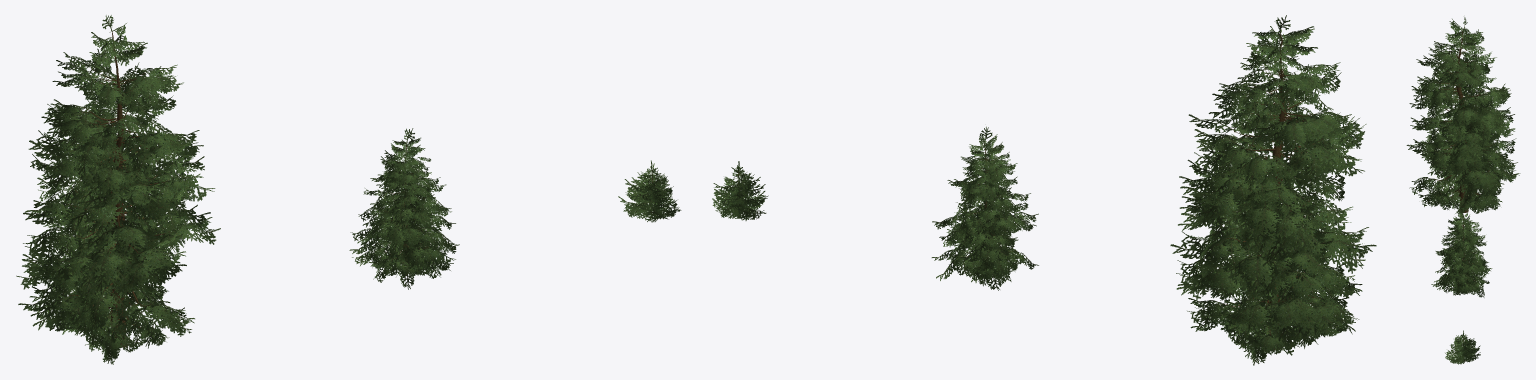
The model's file is tree-fir-realistic.glb.
3 renders of one model, left to right at view 1: azimuth 30°, elevation 25°; view 2: azimuth 150°, elevation 25°; view 3: azimuth 270°, elevation 25°, orthographic. The views are drawn at different scales.
Visible parts, largest first — view 1: Christmas tree_LOD0, Christmas tree_2_LOD0, Christmas tree_3_LOD0; view 2: Christmas tree_LOD0, Christmas tree_2_LOD0, Christmas tree_3_LOD0; view 3: Christmas tree_LOD0, Christmas tree_2_LOD0, Christmas tree_3_LOD0.
Part boxes in pixels (bbox=[...]): Christmas tree_LOD0: bbox=[16, 15, 220, 364]; Christmas tree_2_LOD0: bbox=[349, 128, 459, 289]; Christmas tree_3_LOD0: bbox=[618, 160, 681, 222]; Christmas tree_LOD0: bbox=[1170, 15, 1376, 365]; Christmas tree_2_LOD0: bbox=[931, 126, 1038, 290]; Christmas tree_3_LOD0: bbox=[712, 161, 768, 220]; Christmas tree_LOD0: bbox=[1406, 17, 1520, 215]; Christmas tree_2_LOD0: bbox=[1431, 207, 1492, 297]; Christmas tree_3_LOD0: bbox=[1445, 330, 1480, 364].
Size of the model in its own units: 18.76 by 9.3 by 5.04.
2 materials, 2 textured.
